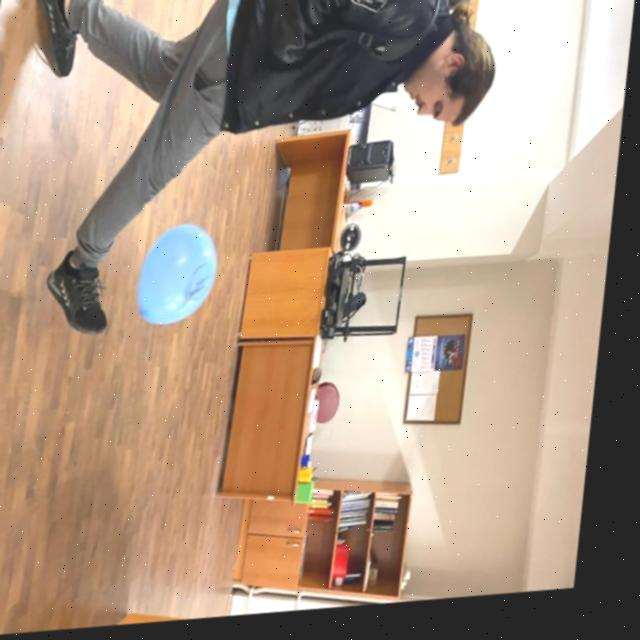balloon: (141, 224, 224, 327)
